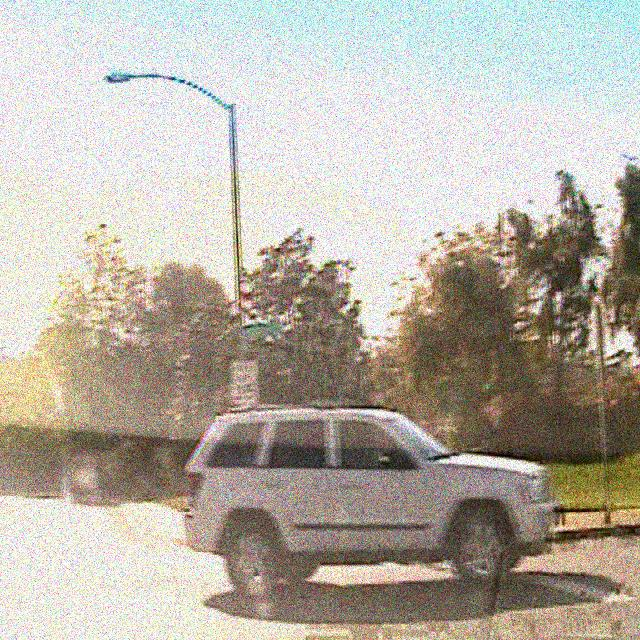speedLimit35: (229, 357, 258, 408)
